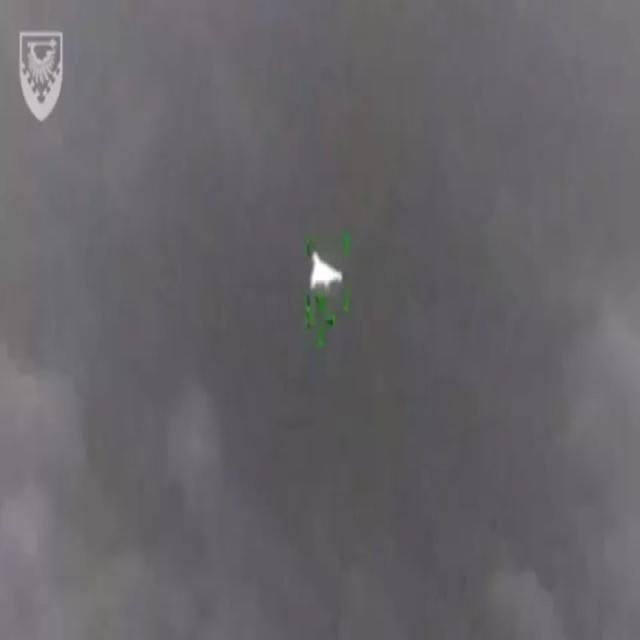drone: (306, 245, 345, 302)
